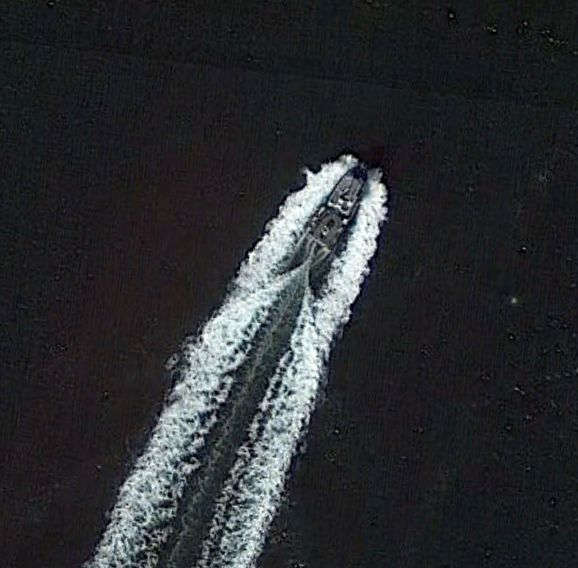boat: (303, 157, 375, 254)
